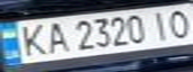0: (124, 11, 151, 45)
2: (69, 17, 97, 52), (109, 14, 133, 47)
3: (90, 16, 115, 50)
A: (39, 19, 72, 55)
I: (145, 9, 175, 40)
K: (12, 20, 51, 57)
O: (163, 7, 193, 39)
